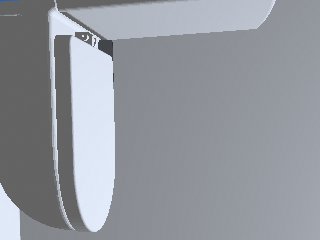lid_1: (54, 32, 114, 231)
